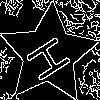H: (24, 29, 81, 84)
